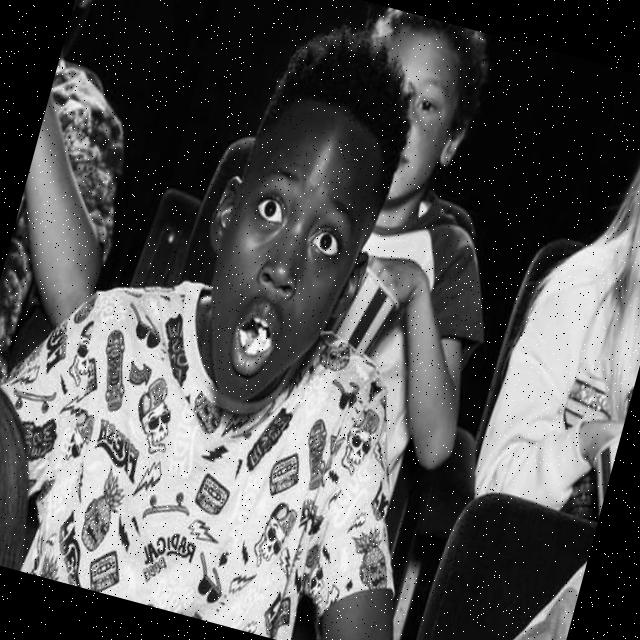Fear: (185, 88, 396, 422)
